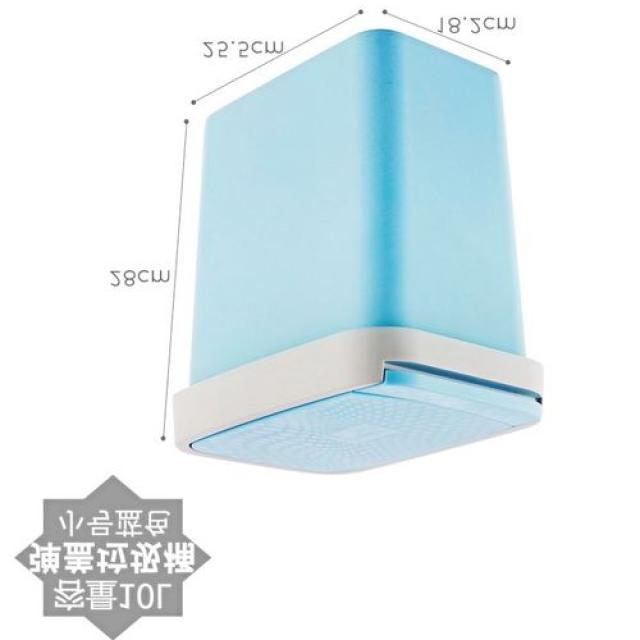dustbin: (167, 26, 558, 480)
